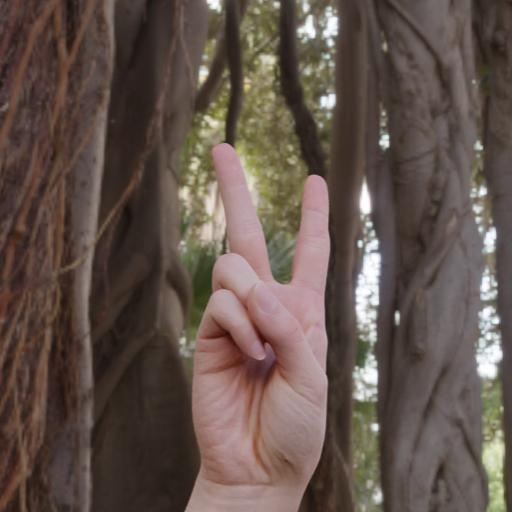V: (187, 143, 334, 490)
